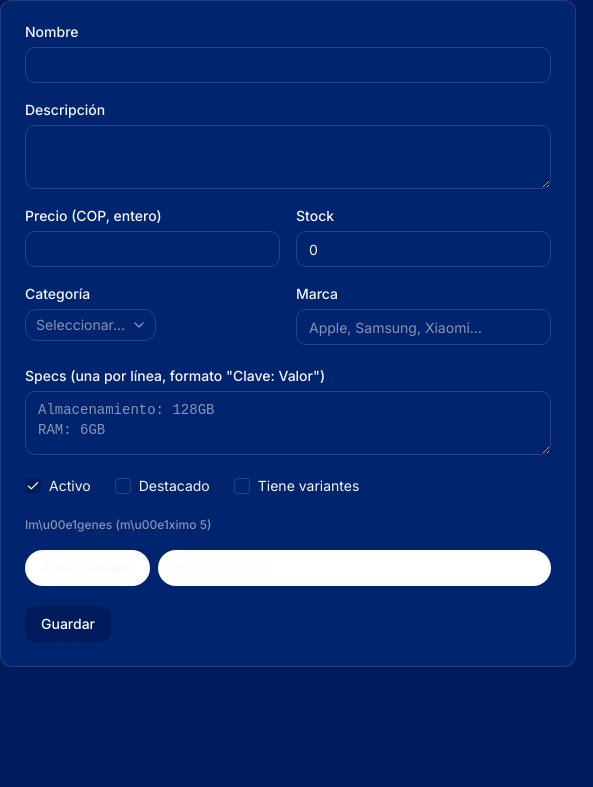
Test case: ProductoForm › muestra input de atributos al activar variantes
Expected: the field labelled "atributos disponibles" is not shown
What coordinates should you click on to do the following:
click the checkbox named "tiene variantes" next to "Tiene variantes"
I would click on:
 (242, 486)
Its box is [234,478,250,494].
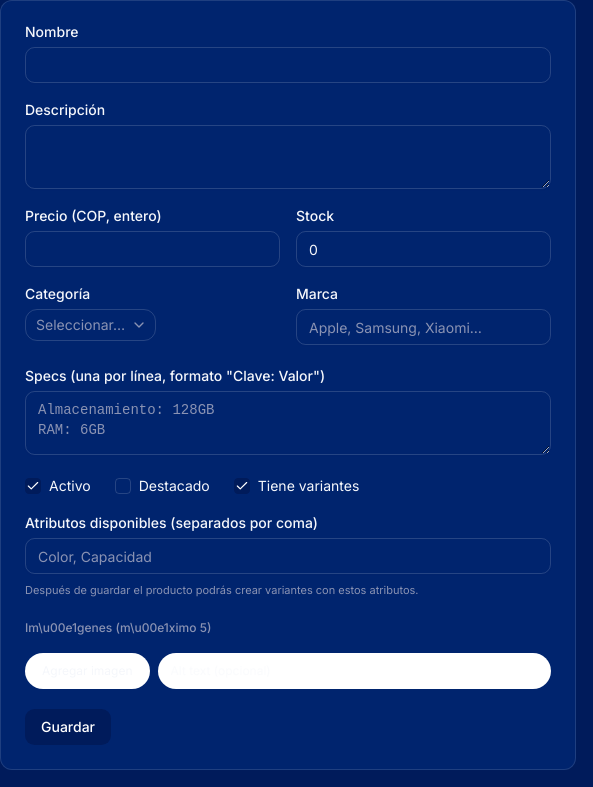
Result: the field labelled "Atributos disponibles (separados por coma)" is shown at [25,538,551,574]
